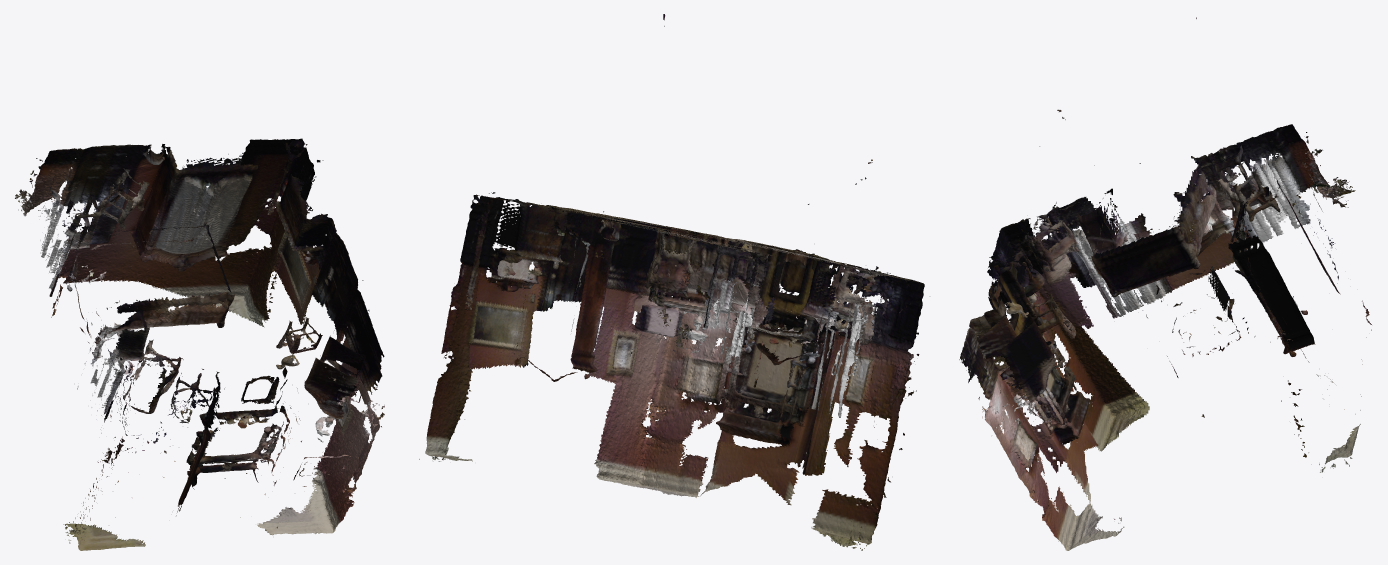
The model's file is coverage-selected-observed.glb.
3 views of the same model, side by side, from view 1: azimuth 30°, elevation 25°; view 2: azimuth 150°, elevation 25°; view 3: azimuth 270°, elevation 25° (orthographic). The views are drawn at different scales.
Visible parts, largest first — view 1: world; view 2: world; view 3: world.
Boxes of the visible parts, x1,y1,x2,y2 form: world: (15,138,384,550); world: (419,14,924,550); world: (959,17,1371,550).
Bounding box in the file's own units: 6.03 × 9.28 × 7.04.
